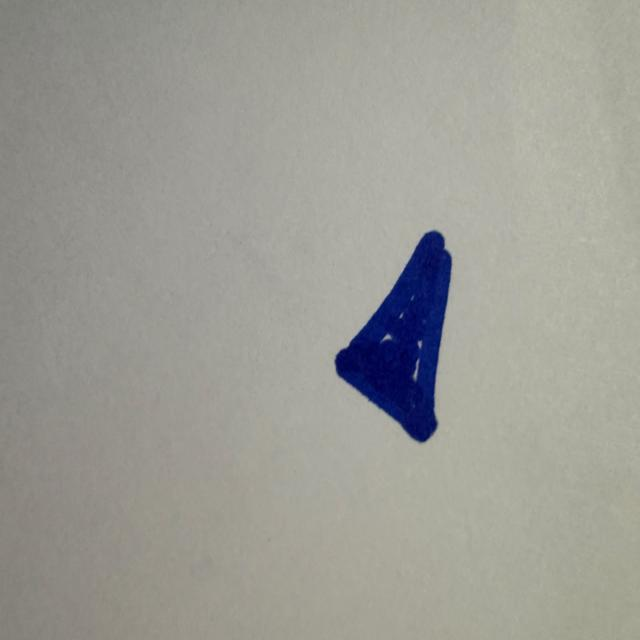Triangle: (336, 231, 452, 442)
